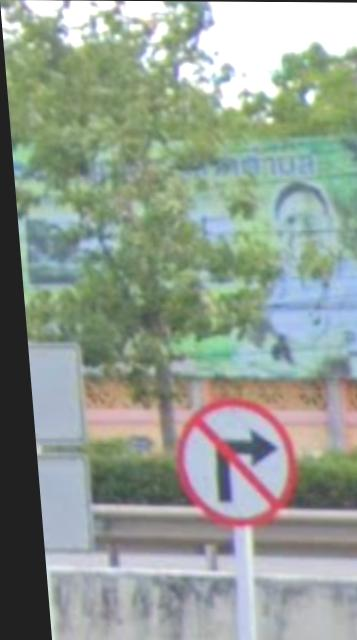not_turn_right: (163, 395, 299, 533)
